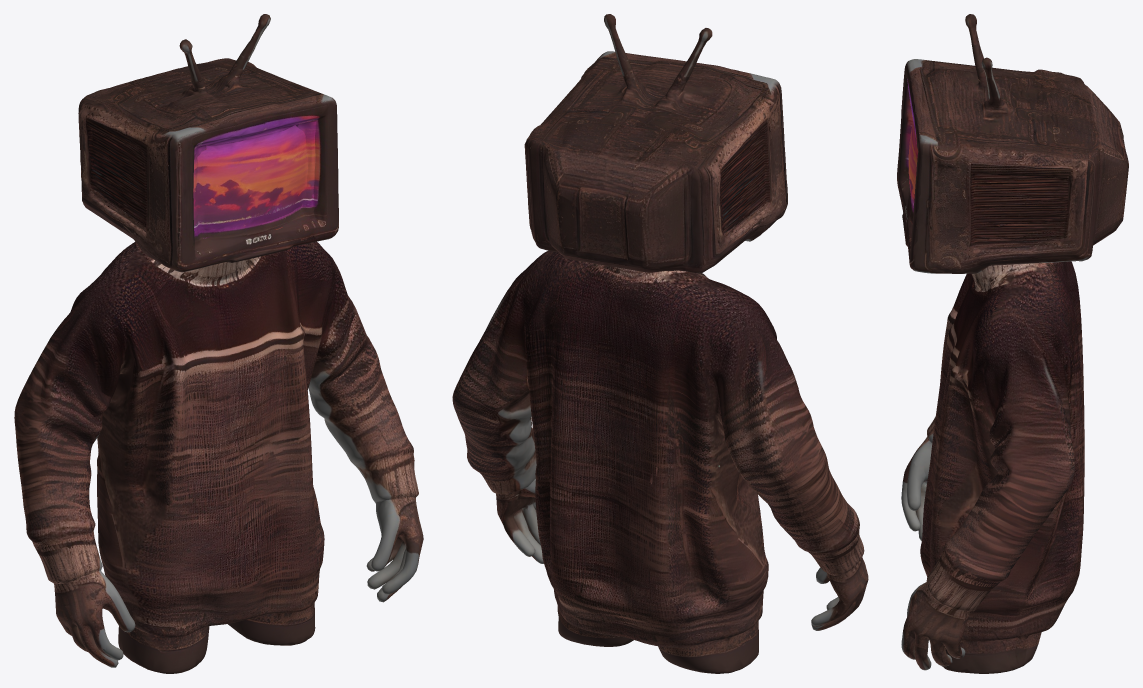
Rendered from crt-character-parts.glb.
3 renders of one model, left to right at view 1: azimuth 30°, elevation 25°; view 2: azimuth 150°, elevation 25°; view 3: azimuth 270°, elevation 25°, orthographic. The views are drawn at different scales.
Visible parts, largest first — view 1: tripo_part_0_Clone, tripo_part_1_Clone, tripo_part_4_Clone, tripo_part_21_Clone, tripo_part_25_Clone, tripo_part_7_Clone, tripo_part_5_Clone, tripo_part_13_Clone, tripo_part_8_Clone, tripo_part_6_Clone, tripo_part_23_Clone, tripo_part_27_Clone (+18 smaller); view 2: tripo_part_0_Clone, tripo_part_1_Clone, tripo_part_4_Clone, tripo_part_26_Clone, tripo_part_7_Clone, tripo_part_24_Clone, tripo_part_10_Clone, tripo_part_5_Clone, tripo_part_2_Clone, tripo_part_27_Clone, tripo_part_13_Clone, tripo_part_6_Clone (+16 smaller); view 3: tripo_part_0_Clone, tripo_part_4_Clone, tripo_part_5_Clone, tripo_part_1_Clone, tripo_part_2_Clone, tripo_part_10_Clone, tripo_part_27_Clone, tripo_part_21_Clone, tripo_part_16_Clone, tripo_part_12_Clone, tripo_part_24_Clone, tripo_part_28_Clone (+18 smaller).
Part boxes in pixels (x1=…): tripo_part_0_Clone: x1=97, y1=323, x2=324, y2=637; tripo_part_1_Clone: x1=80, y1=241, x2=332, y2=375; tripo_part_4_Clone: x1=78, y1=74, x2=338, y2=271; tripo_part_21_Clone: x1=175, y1=97, x2=338, y2=271; tripo_part_25_Clone: x1=197, y1=125, x2=308, y2=238; tripo_part_7_Clone: x1=14, y1=376, x2=92, y2=527; tripo_part_5_Clone: x1=308, y1=339, x2=413, y2=465; tripo_part_13_Clone: x1=38, y1=296, x2=124, y2=416; tripo_part_8_Clone: x1=53, y1=570, x2=119, y2=649; tripo_part_6_Clone: x1=118, y1=626, x2=209, y2=673; tripo_part_23_Clone: x1=26, y1=352, x2=102, y2=445; tripo_part_27_Clone: x1=157, y1=39, x2=270, y2=123; tripo_part_0_Clone: x1=525, y1=317, x2=768, y2=647; tripo_part_1_Clone: x1=526, y1=250, x2=770, y2=415; tripo_part_4_Clone: x1=524, y1=51, x2=787, y2=273; tripo_part_26_Clone: x1=554, y1=147, x2=688, y2=252; tripo_part_7_Clone: x1=750, y1=414, x2=853, y2=545; tripo_part_24_Clone: x1=543, y1=150, x2=689, y2=272; tripo_part_10_Clone: x1=559, y1=100, x2=718, y2=164; tripo_part_5_Clone: x1=452, y1=359, x2=535, y2=476; tripo_part_2_Clone: x1=474, y1=266, x2=533, y2=398; tripo_part_27_Clone: x1=641, y1=28, x2=745, y2=111; tripo_part_13_Clone: x1=716, y1=326, x2=799, y2=448; tripo_part_6_Clone: x1=658, y1=621, x2=758, y2=673; tripo_part_0_Clone: x1=920, y1=300, x2=1084, y2=644; tripo_part_4_Clone: x1=909, y1=59, x2=1087, y2=273; tripo_part_5_Clone: x1=944, y1=439, x2=1074, y2=582; tripo_part_1_Clone: x1=949, y1=261, x2=1079, y2=391; tripo_part_2_Clone: x1=978, y1=325, x2=1070, y2=448; tripo_part_10_Clone: x1=993, y1=75, x2=1097, y2=141; tripo_part_27_Clone: x1=923, y1=14, x2=1008, y2=111; tripo_part_21_Clone: x1=897, y1=61, x2=925, y2=268; tripo_part_16_Clone: x1=903, y1=582, x2=969, y2=658; tripo_part_12_Clone: x1=942, y1=632, x2=1041, y2=673; tripo_part_24_Clone: x1=1093, y1=144, x2=1128, y2=245; tripo_part_28_Clone: x1=971, y1=173, x2=1063, y2=206.
Bounding box in the file's own units: 0.6392 × 0.9999 × 0.3487.
Materials: 65 (65 with a texture image).
